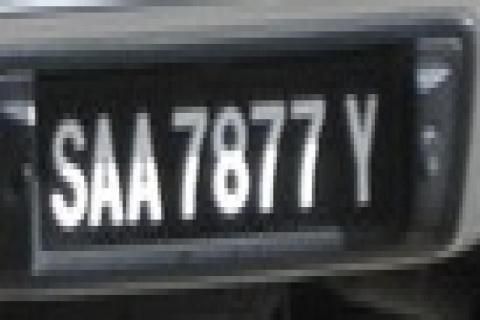LicensePlate: (26, 46, 429, 276)
